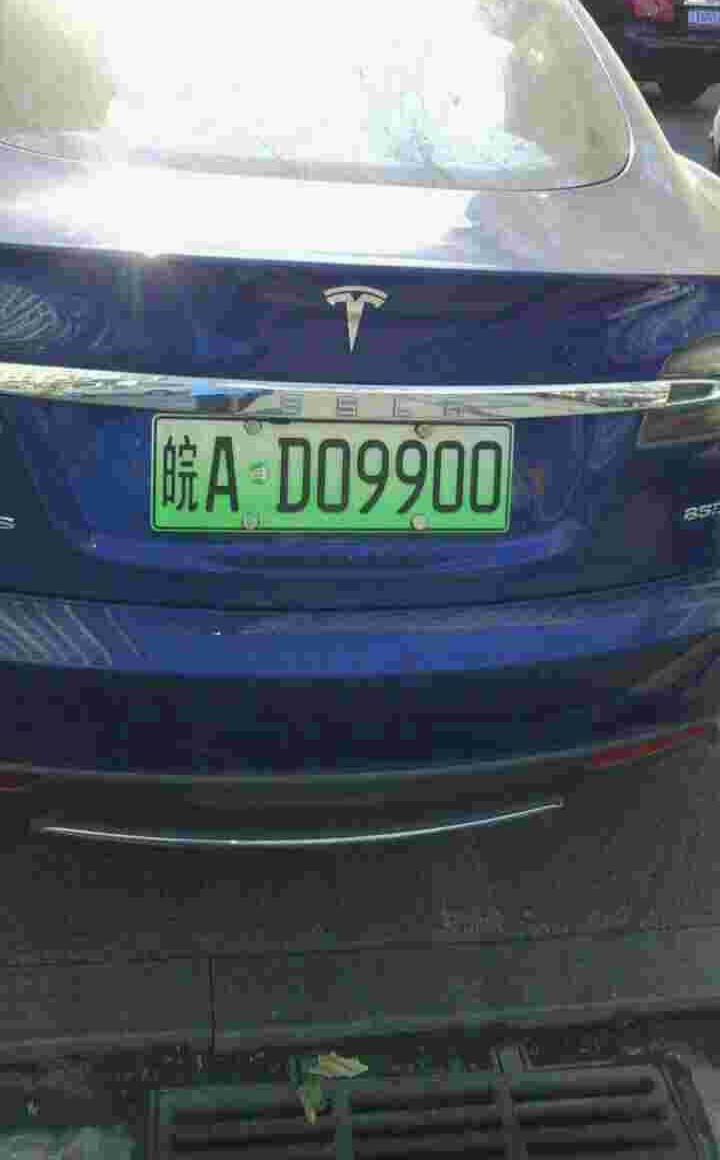car_id: (153, 418, 510, 529)
